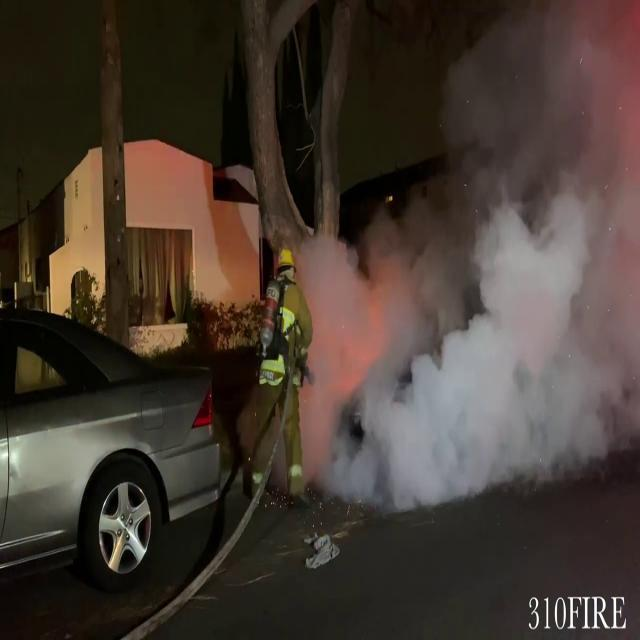Smoke: (280, 4, 640, 520)
